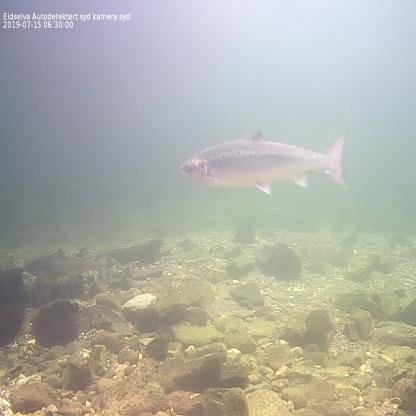salmon: (177, 123, 353, 199), (23, 244, 110, 288)
